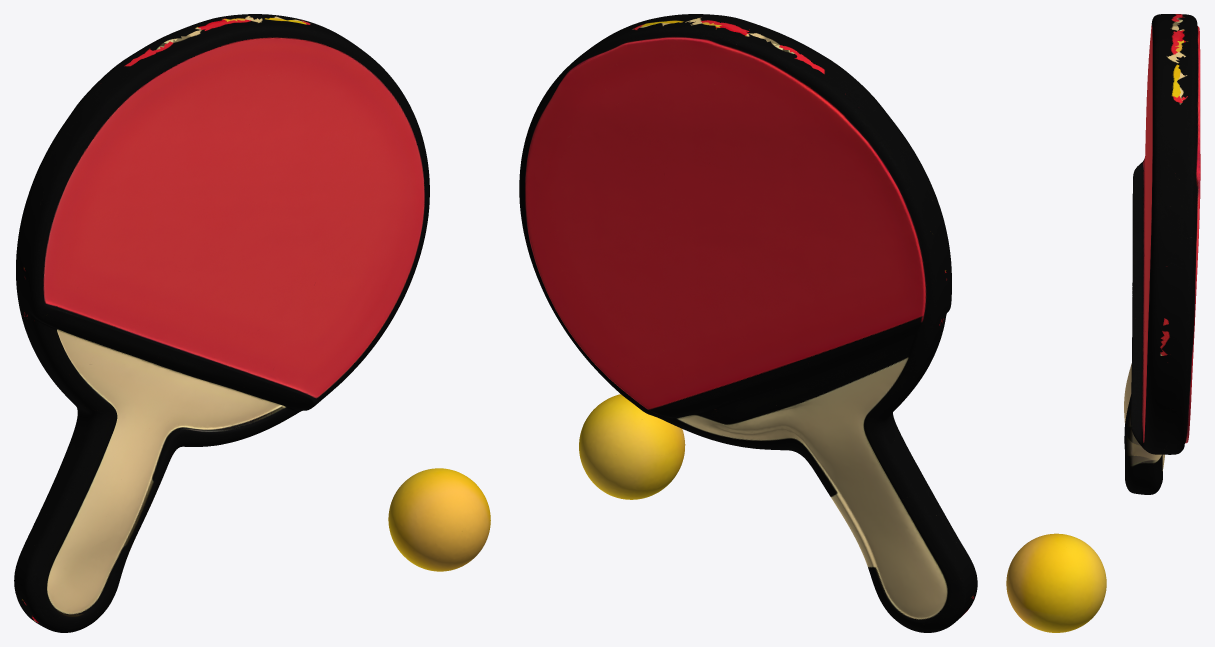
Rendered from ping-pong.glb.
3 renders of one model, left to right at view 1: azimuth 30°, elevation 25°; view 2: azimuth 150°, elevation 25°; view 3: azimuth 270°, elevation 25°, orthographic. The views are drawn at different scales.
Parts seen in each view (by area): view 1: Mesh_0.001; view 2: Mesh_0.001; view 3: Mesh_0.001.
Boxes of the visible parts, x1=… form: Mesh_0.001: x1=14, y1=14, x2=490, y2=632; Mesh_0.001: x1=519, y1=14, x2=977, y2=632; Mesh_0.001: x1=1006, y1=14, x2=1200, y2=632.
Size of the model in its own units: 0.7922 by 1 by 0.3302.
1 material, 1 textured.
